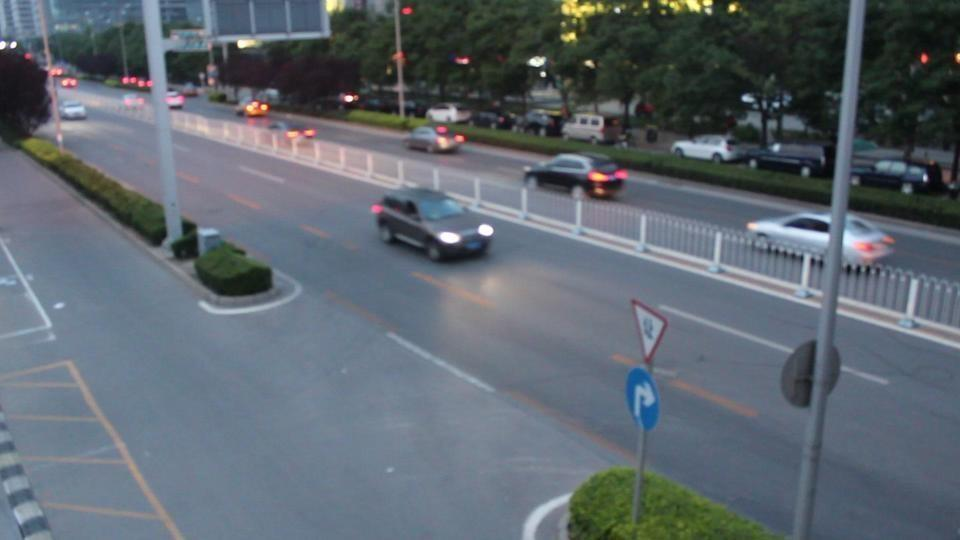car: (372, 185, 495, 262), (744, 212, 896, 273), (521, 154, 628, 200), (850, 159, 950, 195), (736, 141, 830, 179), (671, 135, 750, 165), (405, 124, 466, 154), (560, 114, 614, 145), (426, 104, 474, 125), (57, 99, 89, 121), (237, 98, 270, 118), (165, 92, 186, 110), (60, 75, 77, 89)
